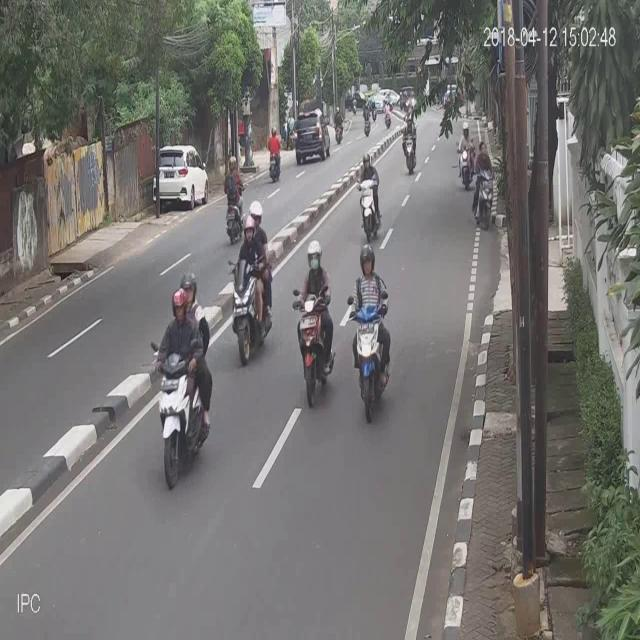bus: (150, 268, 212, 491), (347, 242, 390, 422), (228, 198, 274, 364), (294, 237, 334, 408), (355, 152, 383, 240), (223, 151, 245, 244), (472, 140, 494, 230), (456, 119, 474, 191), (399, 112, 418, 174), (266, 122, 281, 180)
motorcycle: (151, 142, 209, 210), (294, 106, 330, 164)
